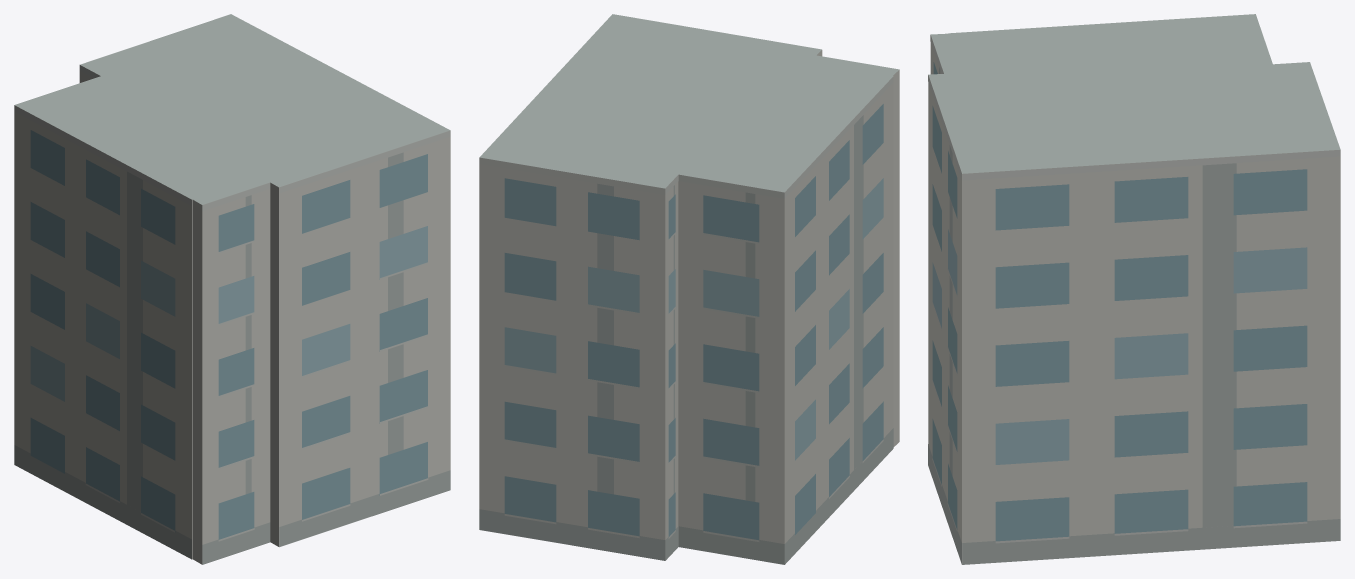
File: survey-upis-32833775.glb
3 renders of one model, left to right at view 1: azimuth 30°, elevation 25°; view 2: azimuth 150°, elevation 25°; view 3: azimuth 270°, elevation 25°, orthographic. The views are drawn at different scales.
Visible parts, largest first — view 1: survey-upis-32833775.tmp; view 2: survey-upis-32833775.tmp; view 3: survey-upis-32833775.tmp.
Part boxes in pixels (x1=…): survey-upis-32833775.tmp: x1=14, y1=14, x2=450, y2=564; survey-upis-32833775.tmp: x1=479, y1=14, x2=899, y2=564; survey-upis-32833775.tmp: x1=928, y1=14, x2=1340, y2=564.
Size of the model in its own units: 12.19 by 13.9 by 13.3.
